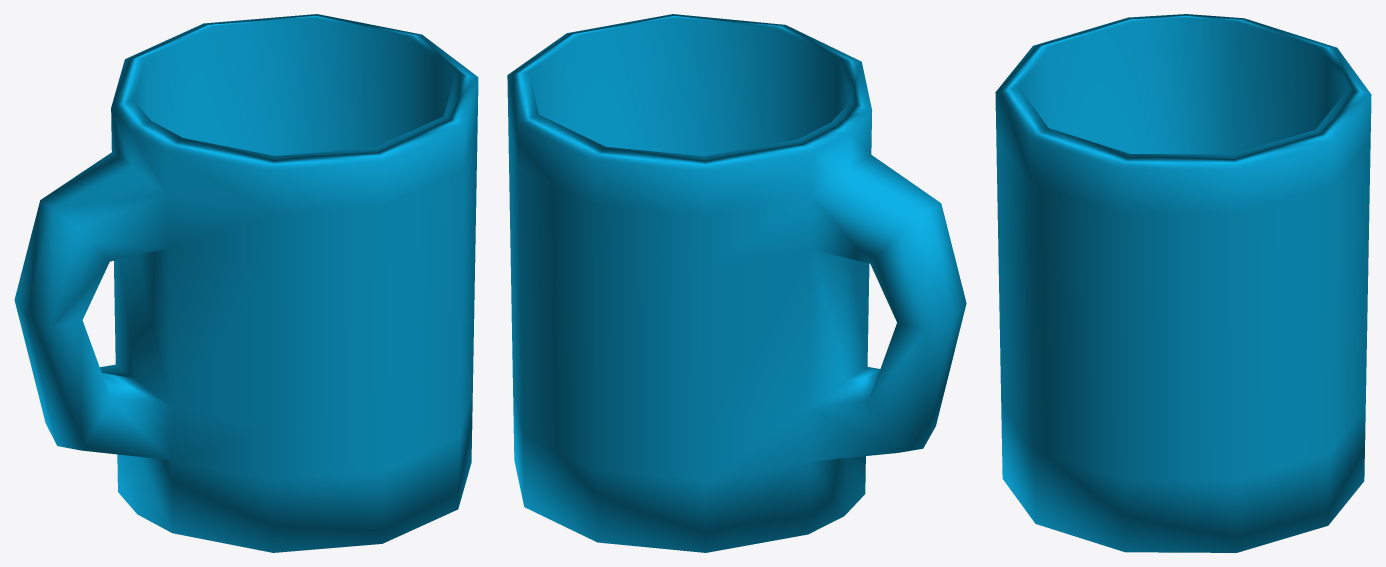
File: Mug_01_Lod1.fbx
The picture shows the model from 3 angles, left to right: view 1: azimuth 30°, elevation 25°; view 2: azimuth 150°, elevation 25°; view 3: azimuth 270°, elevation 25°; orthographic projection.
Parts seen in each view (by area): view 1: Mug_01_Lod1; view 2: Mug_01_Lod1; view 3: Mug_01_Lod1.
Part boxes in pixels (left/top/right/bottom): Mug_01_Lod1: left=14, top=14, right=478, bottom=552; Mug_01_Lod1: left=507, top=14, right=966, bottom=552; Mug_01_Lod1: left=995, top=14, right=1371, bottom=552.
Size of the model in its own units: 10.95 by 9.79 by 8.43.
